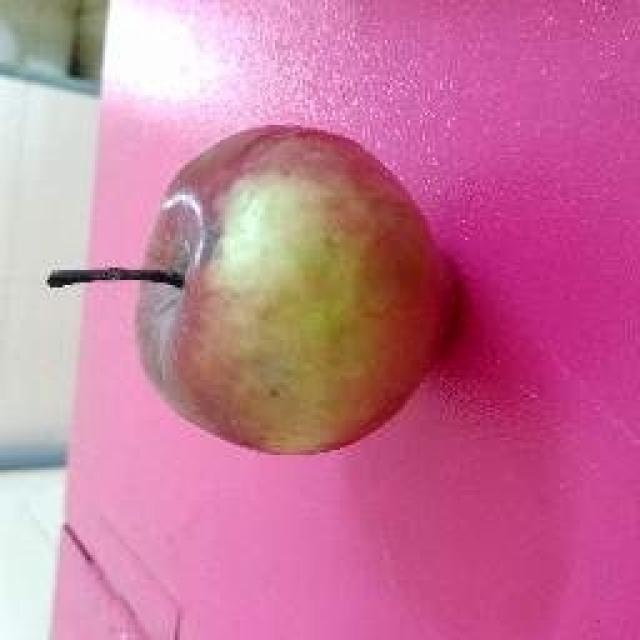Good_Apple: (50, 125, 465, 458)
